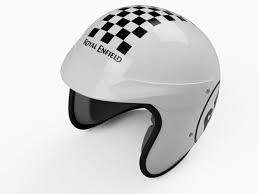helmet: (62, 6, 220, 177)
